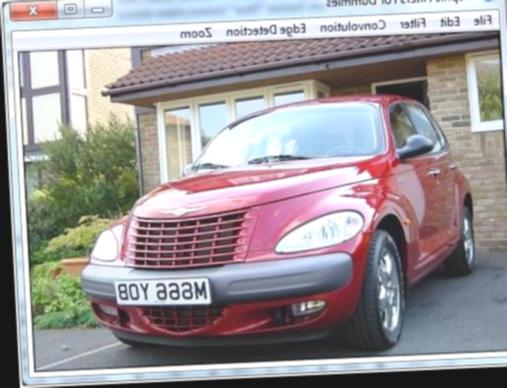License_Plate: (114, 274, 209, 309)
